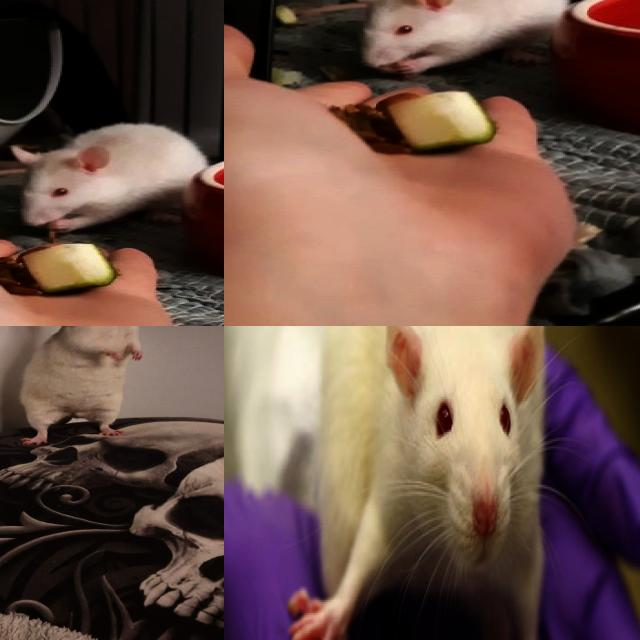rat: (270, 326, 586, 640), (5, 120, 216, 236), (339, 0, 584, 77), (17, 326, 153, 447)
